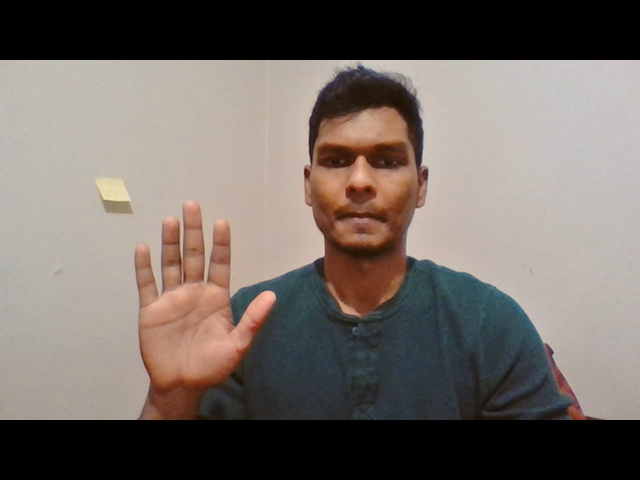Hello: (132, 196, 277, 394)
